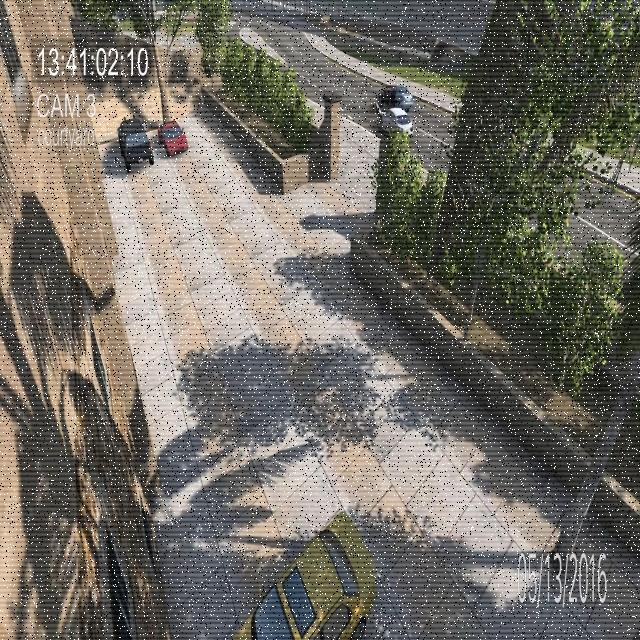low-cars-accident: (367, 76, 426, 148)
